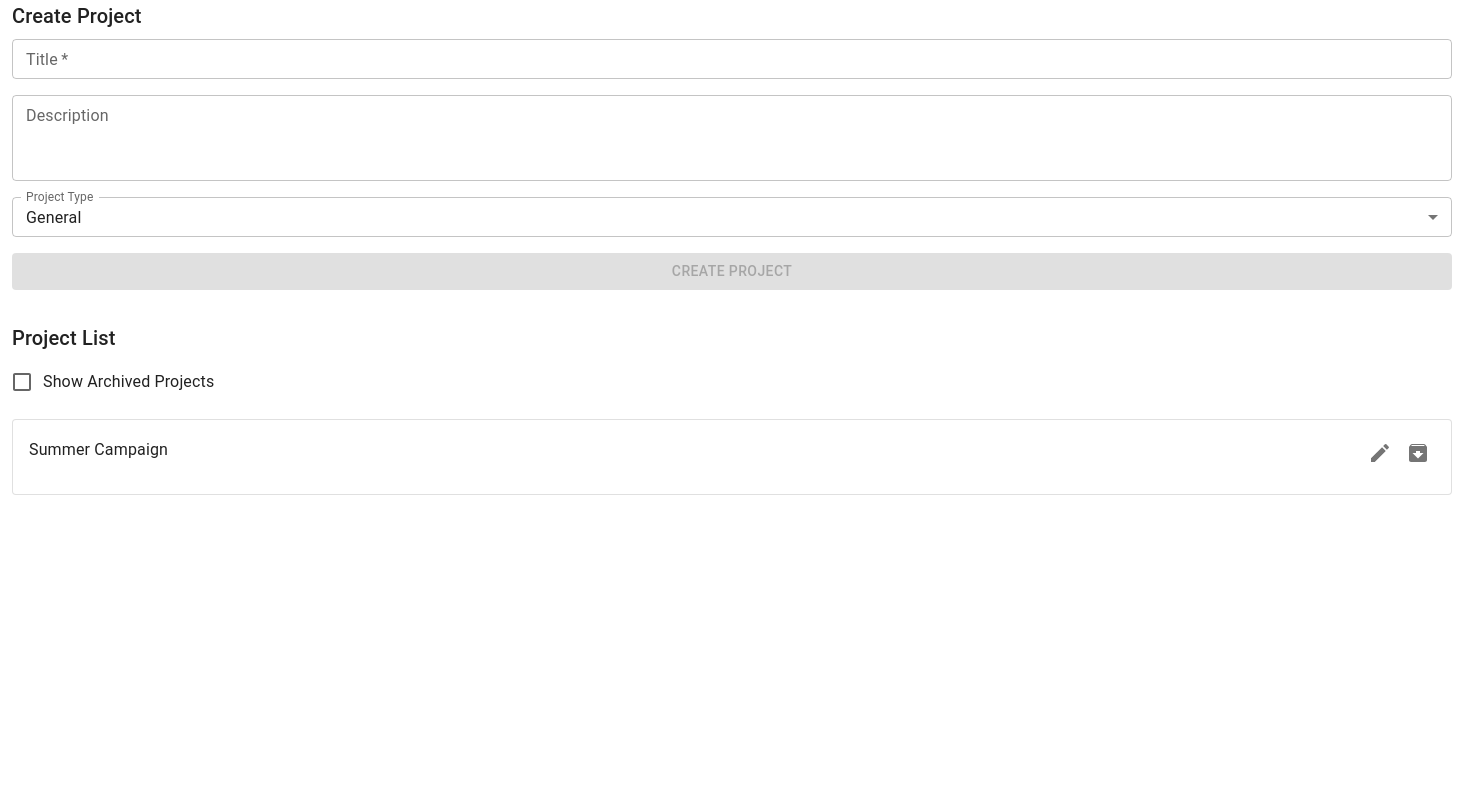
Test case: ProjectsSection › Archive error handling › error snackbar closes when user clicks close button
Expected: the heading "Summer Campaign" is shown, [29,436,168,464]
# Click archive button
Click the button named "archive": (1418, 452) [1401,436,1435,470]
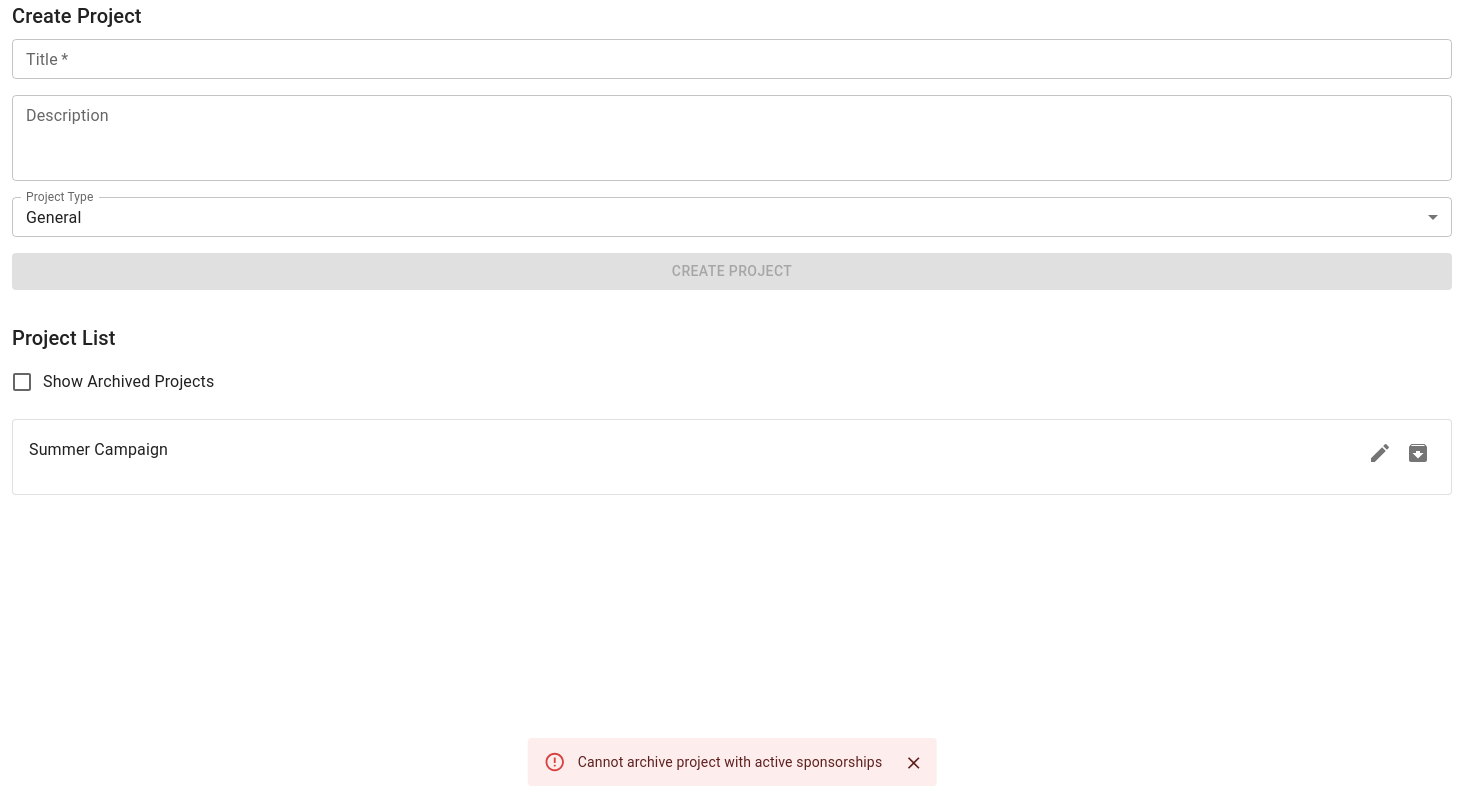
Now the text "Cannot archive project with active sponsorships" is shown, box [578,754,882,770]
# Click close button on snackbar
Click the button named "close": (913, 763) [898,748,928,778]
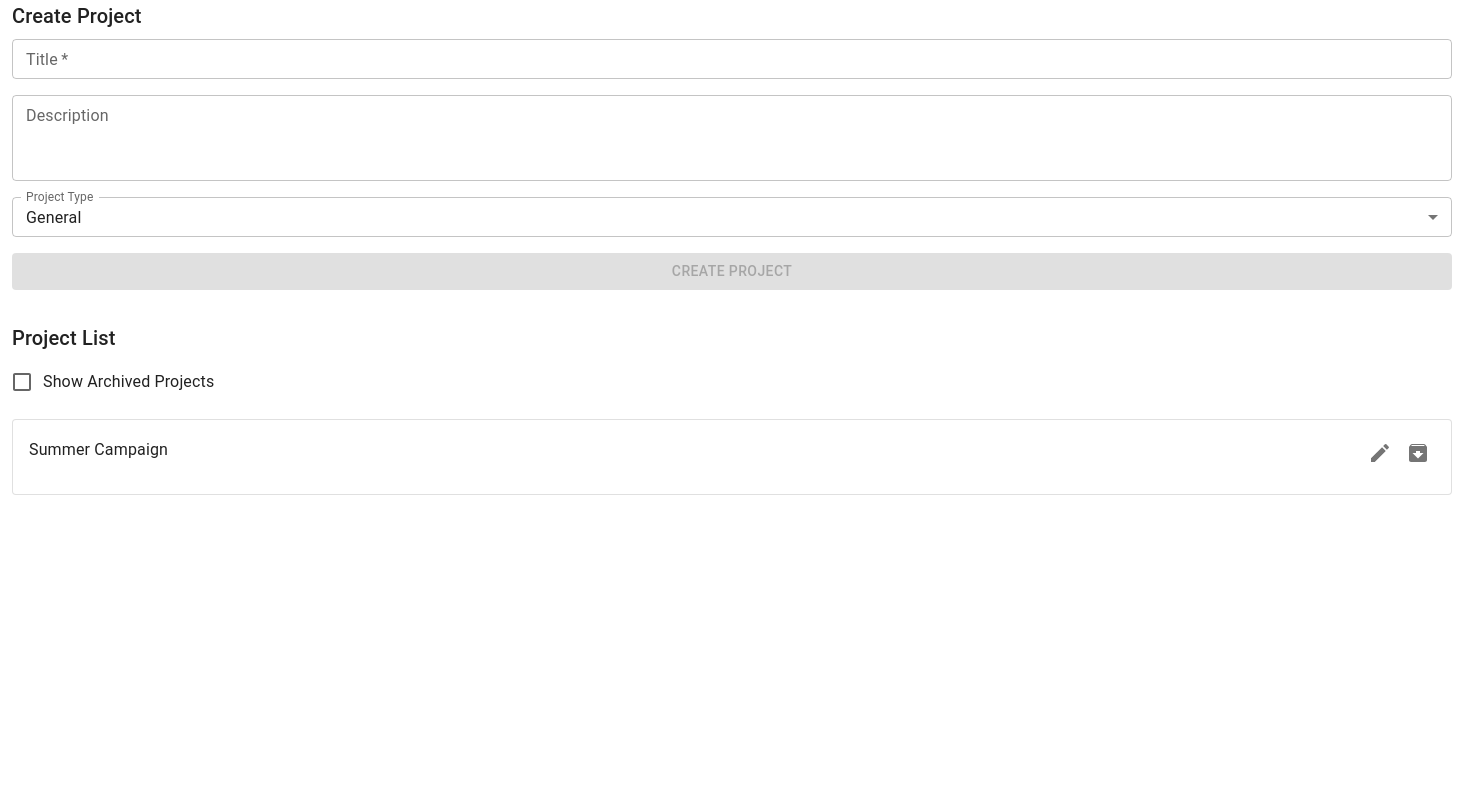
Now the text "Cannot archive project with active sponsorships" is gone
